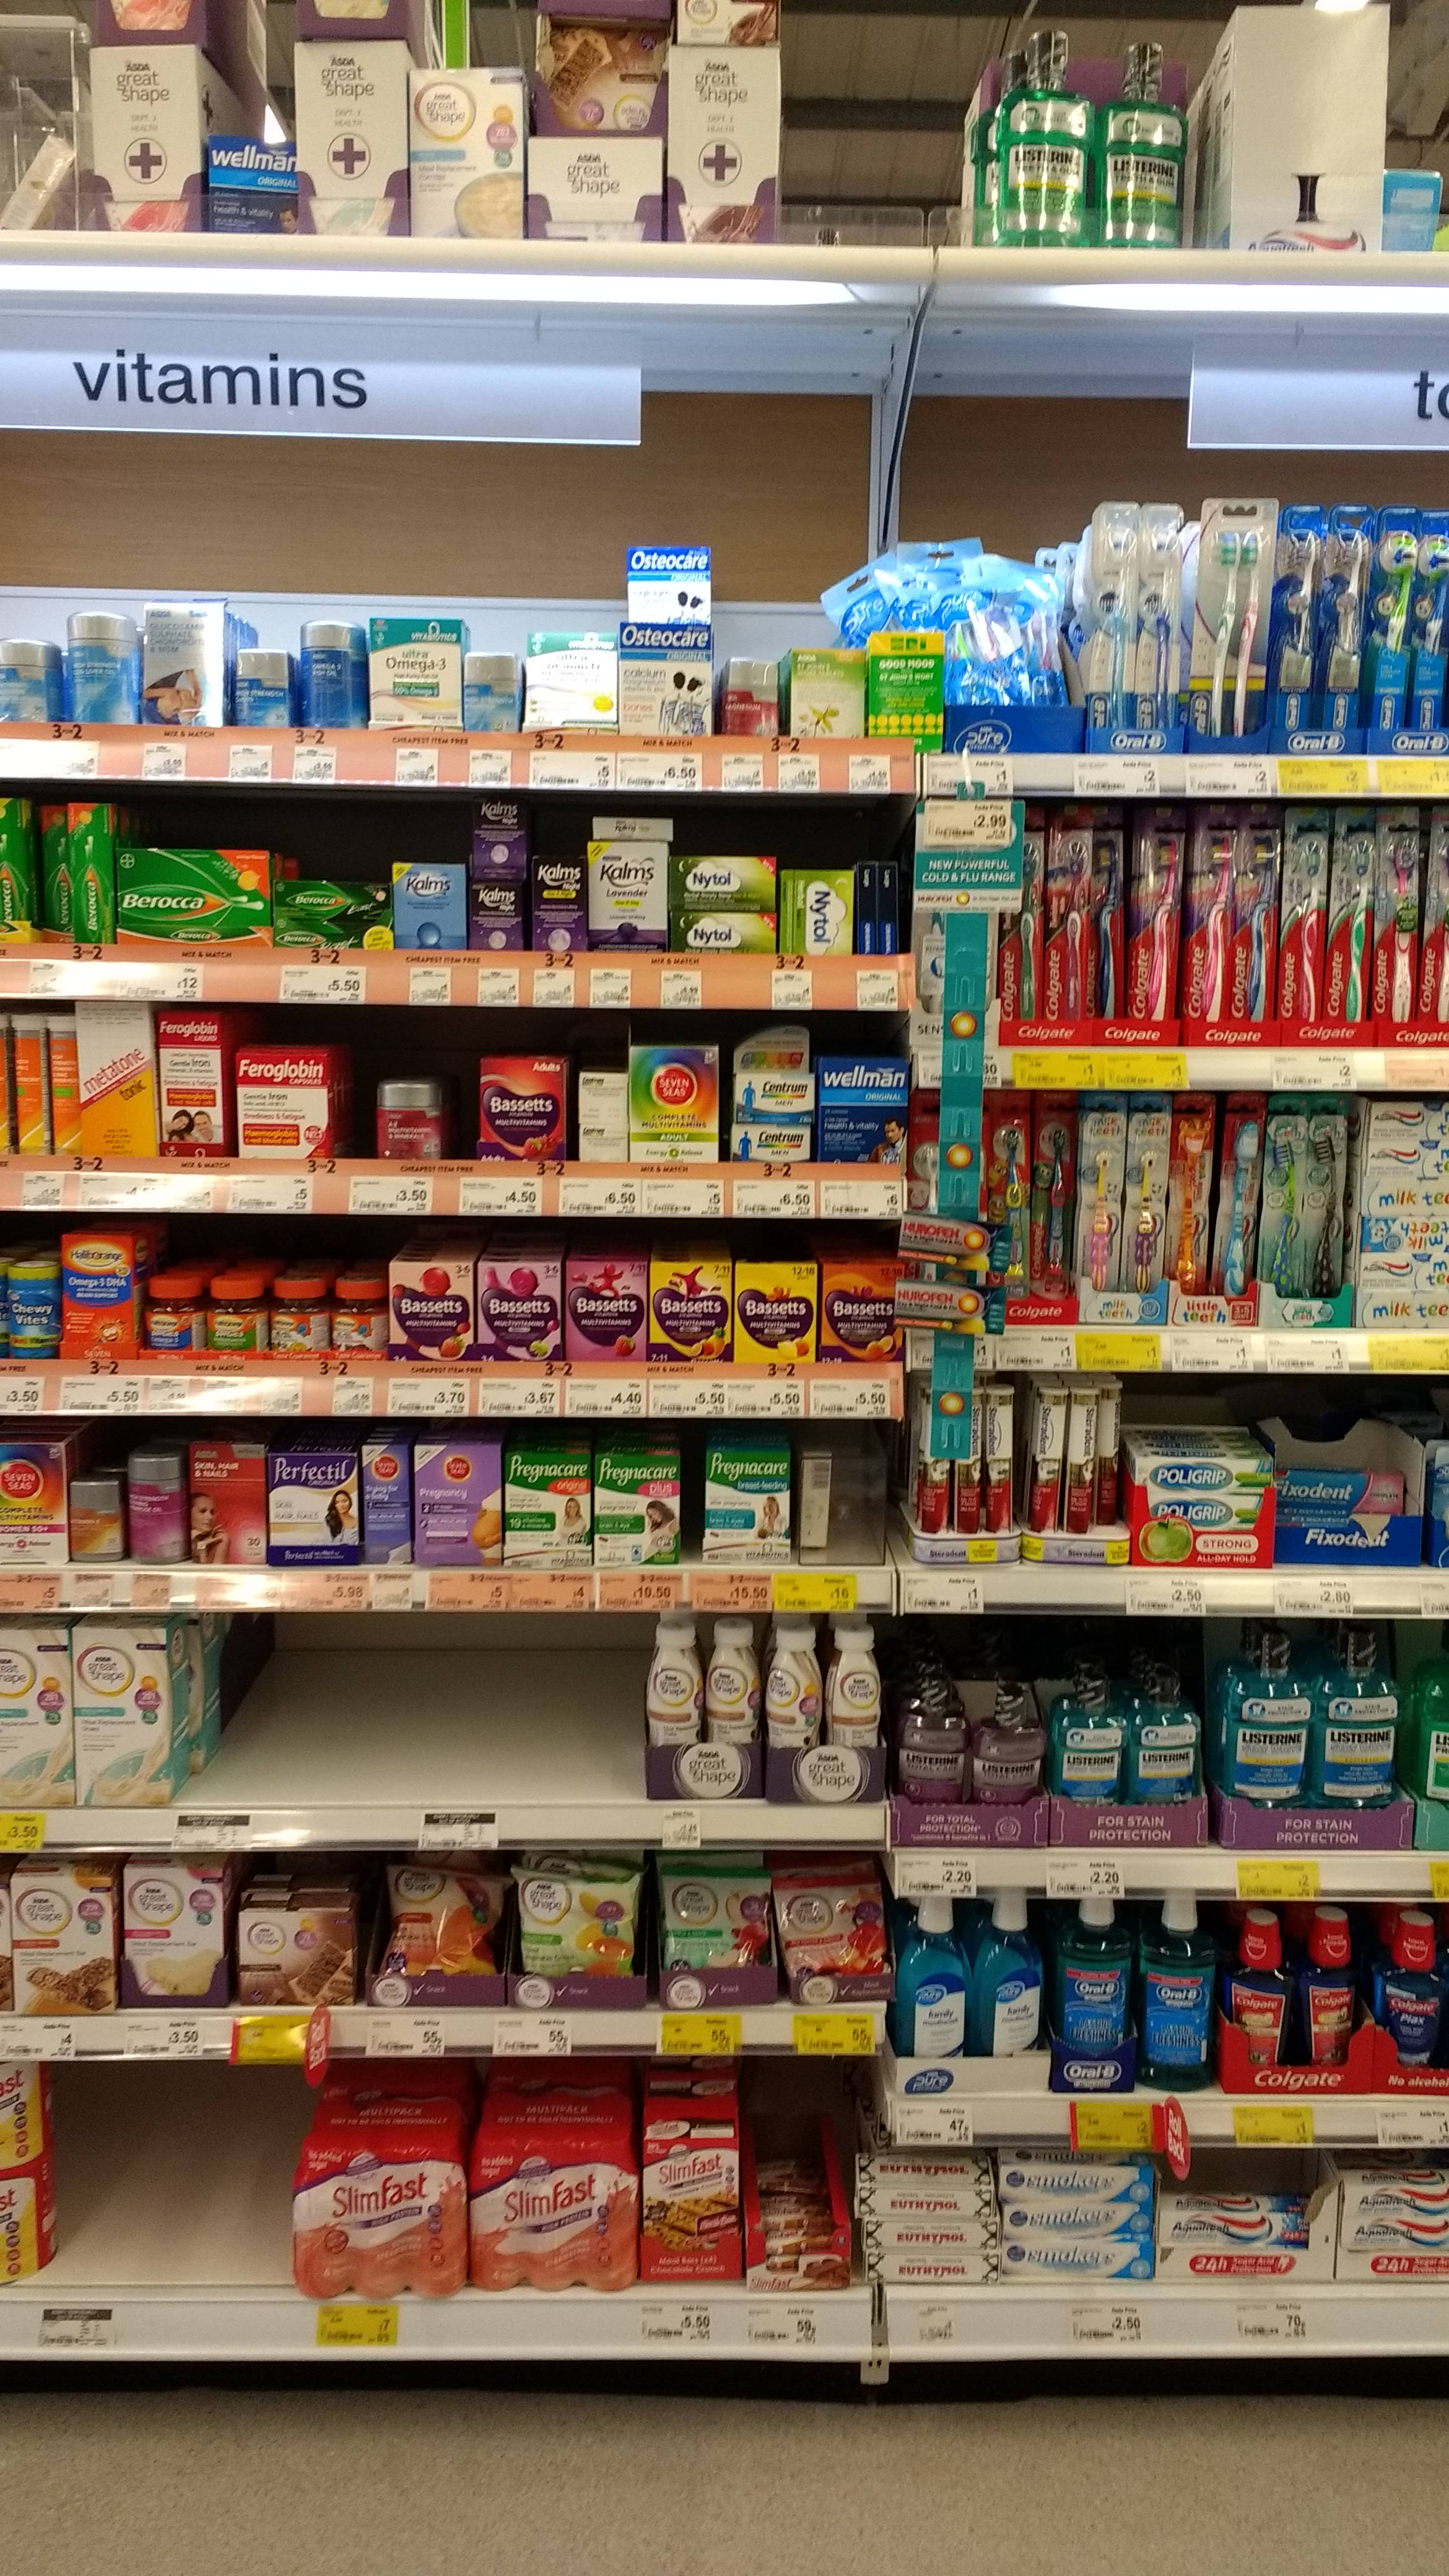Out-of-stock: (193, 1612, 646, 1805)
